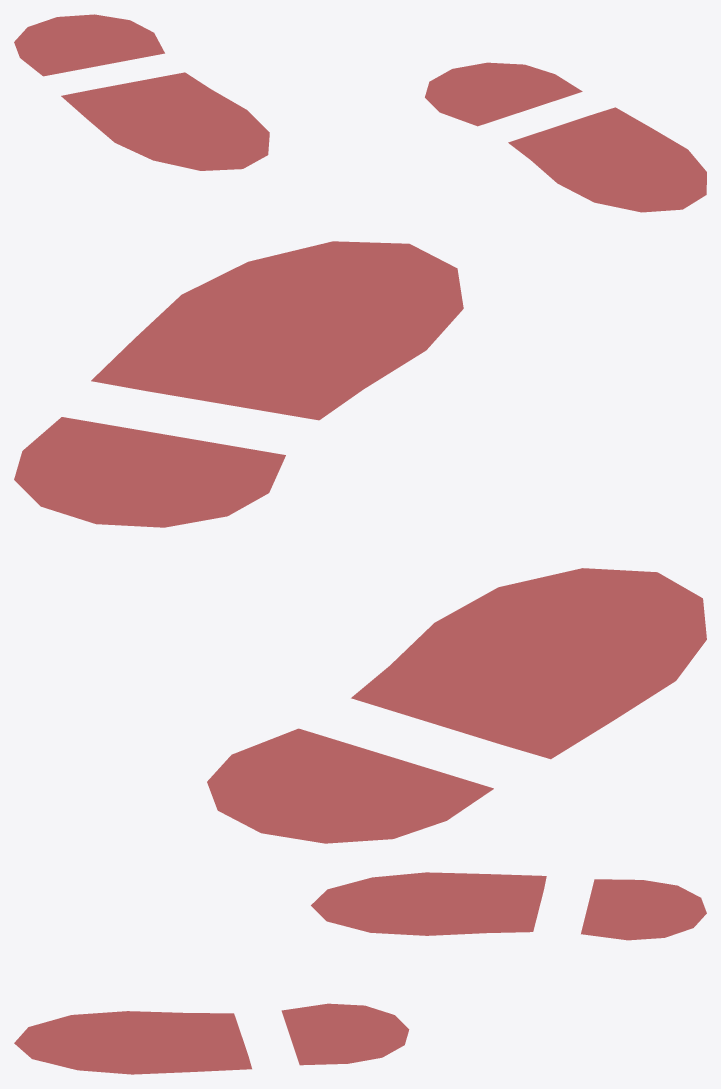
Rendered from vr_footsteps.glb.
3 renders of one model, top to bottom at view 1: azimuth 30°, elevation 25°; view 2: azimuth 150°, elevation 25°; view 3: azimuth 270°, elevation 25°, orthographic. The views are drawn at different scales.
Parts seen in each view (by area): view 1: Footsteps; view 2: Footsteps; view 3: Footsteps.
Part boxes in pixels (x1,y1,x2,y2): Footsteps: [14, 14, 706, 212]; Footsteps: [14, 241, 706, 843]; Footsteps: [14, 872, 706, 1074].
Bounding box in the file's own units: 0.2717 × 6.41e-08 × 0.3936.
